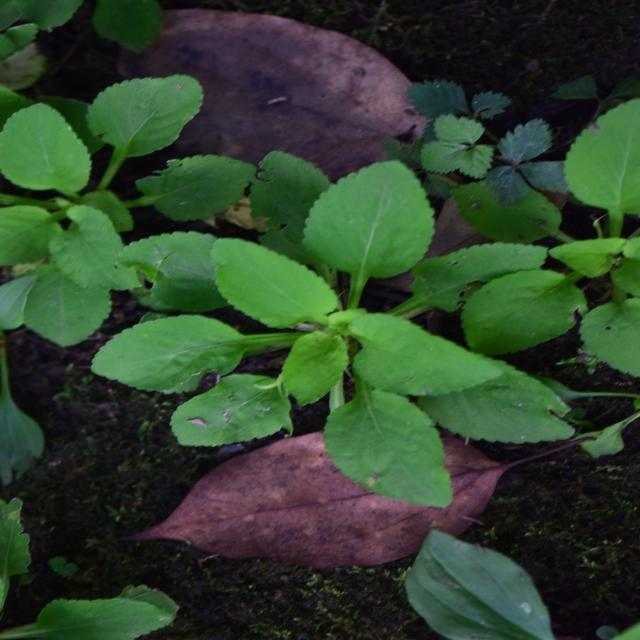Viola: (148, 97, 470, 510)
